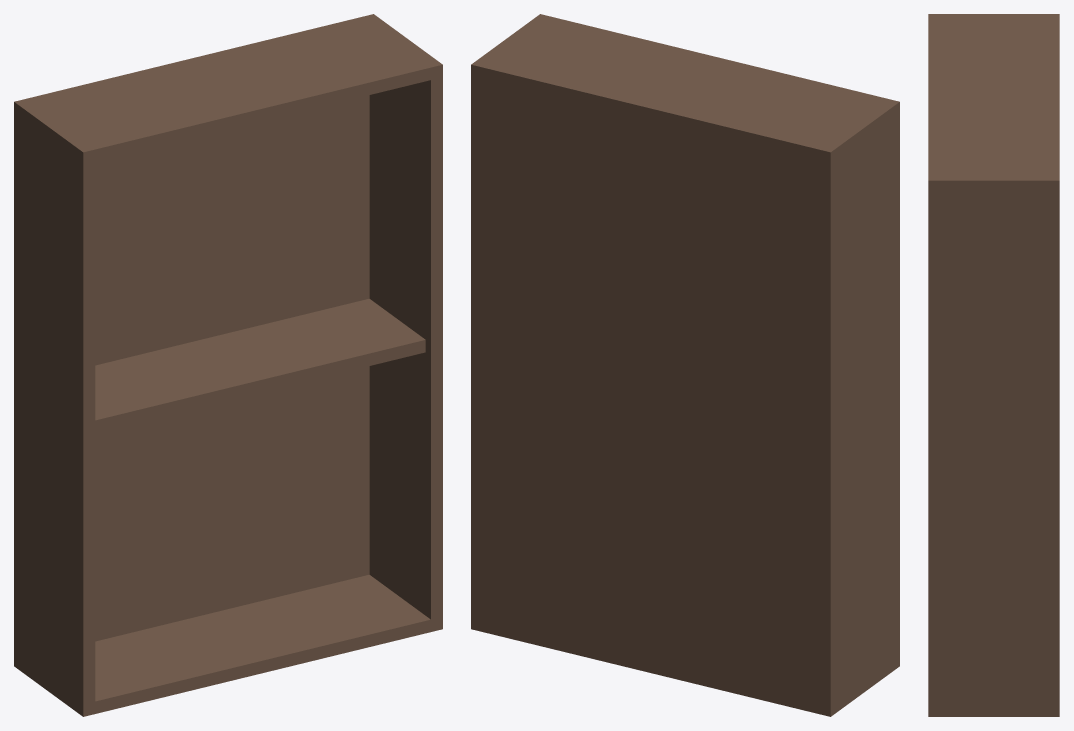
Rendered from Bathroom_C2_05.fbx.
3 renders of one model, left to right at view 1: azimuth 30°, elevation 25°; view 2: azimuth 150°, elevation 25°; view 3: azimuth 270°, elevation 25°, orthographic. The views are drawn at different scales.
Parts seen in each view (by area): view 1: Bathroom_C2_05; view 2: Bathroom_C2_05; view 3: Bathroom_C2_05.
Boxes of the visible parts, bbox=[...] form: Bathroom_C2_05: bbox=[14, 14, 442, 716]; Bathroom_C2_05: bbox=[471, 14, 899, 716]; Bathroom_C2_05: bbox=[928, 14, 1059, 716].
Bounding box in the file's own units: 60 × 90 × 20.
